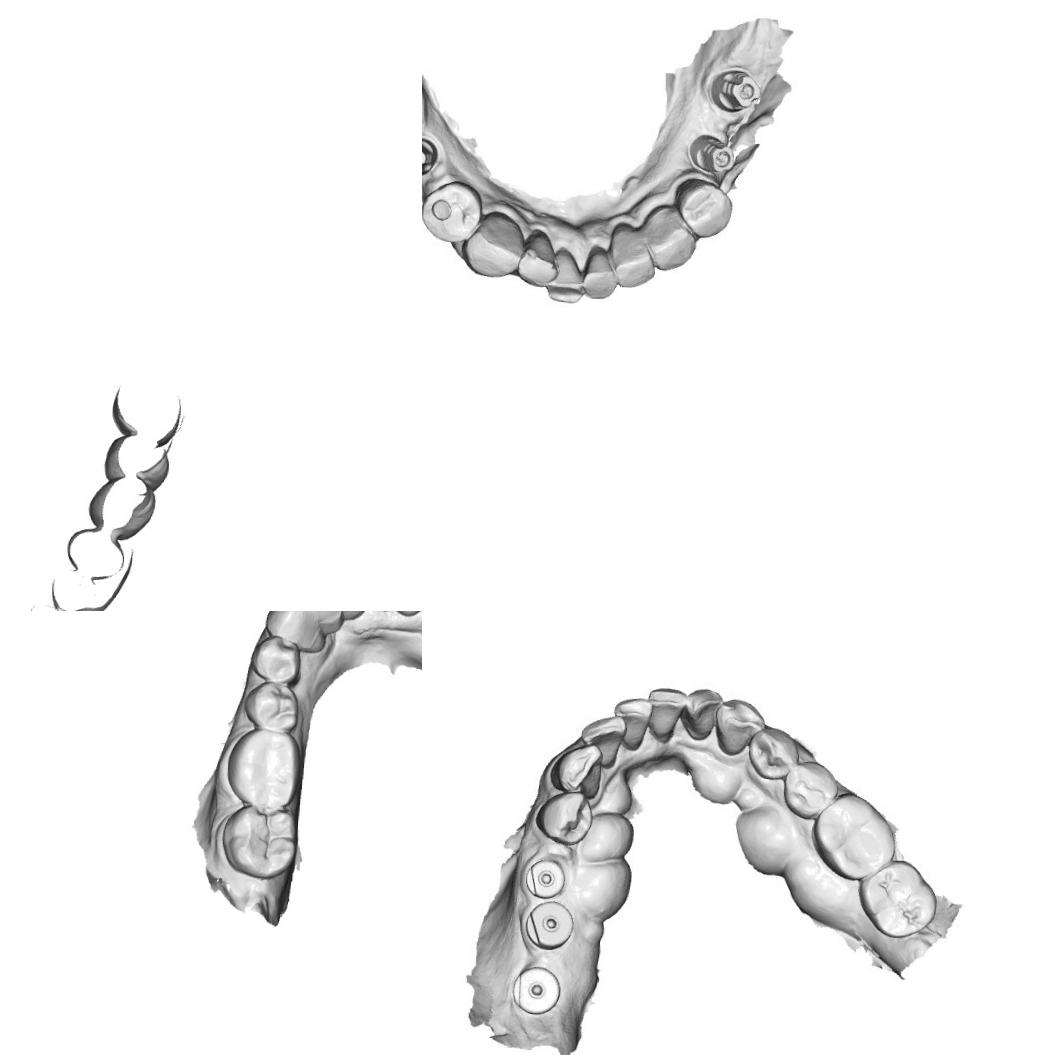canine: (464, 213, 522, 277), (712, 694, 766, 761), (647, 208, 702, 272), (552, 740, 606, 798), (259, 611, 328, 651)
implant: (705, 61, 761, 125), (507, 958, 565, 1018), (521, 898, 574, 954), (690, 128, 742, 180), (522, 854, 566, 900), (422, 130, 443, 183)
incisor: (578, 714, 627, 771), (610, 224, 656, 282), (644, 686, 684, 744), (684, 682, 720, 744), (613, 695, 651, 751), (546, 248, 584, 299), (520, 232, 558, 282), (585, 246, 617, 294), (297, 611, 345, 635)
molar: (222, 724, 306, 815), (815, 793, 898, 881), (218, 802, 300, 882), (864, 864, 936, 938)
premolar: (778, 758, 837, 822), (535, 786, 597, 846), (239, 678, 302, 736), (422, 182, 480, 240), (677, 177, 733, 237), (247, 632, 304, 686), (750, 730, 796, 780)
